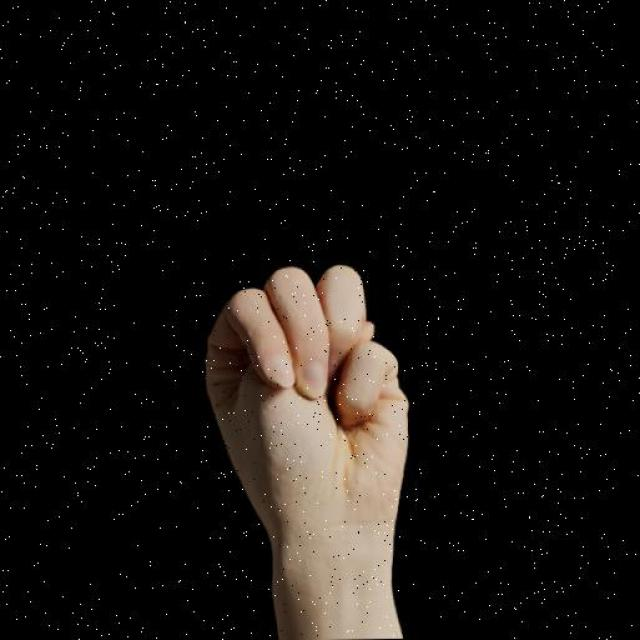M: (196, 260, 418, 550)
